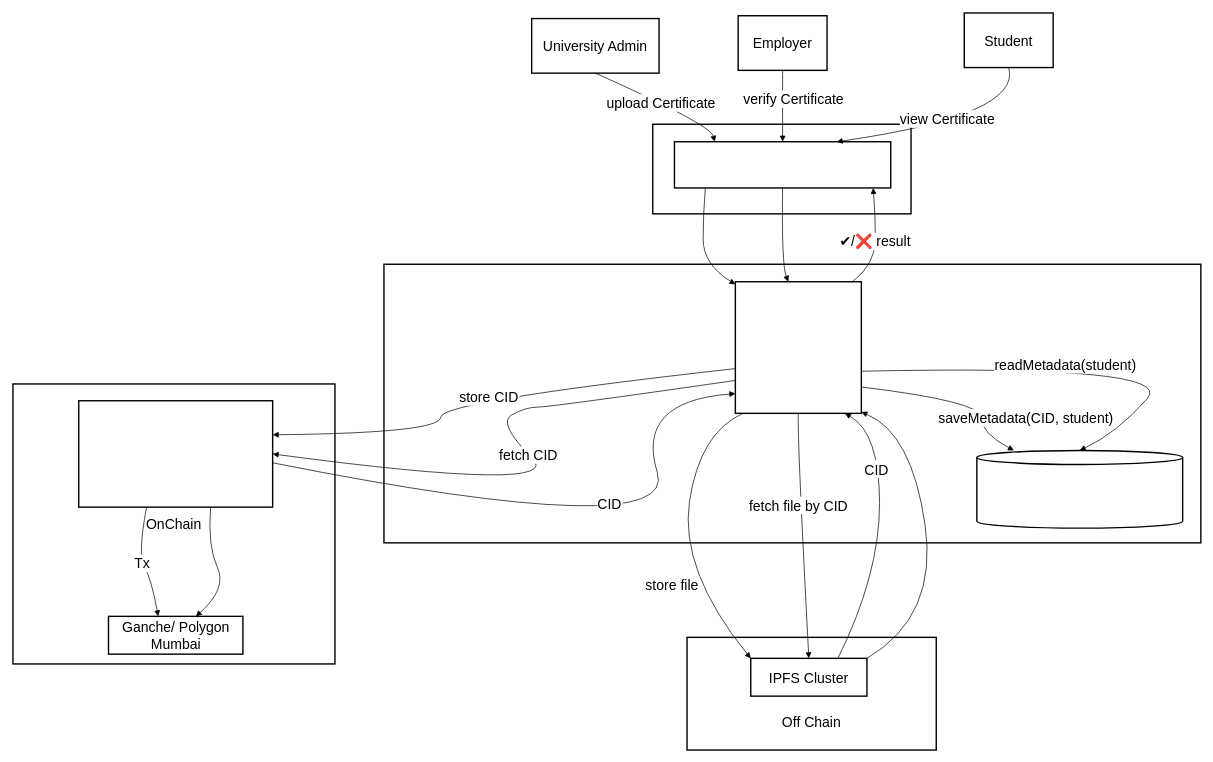
Image size: 1213x762. Some labels were removed from this diagram. Each missing label, with the centre of its shape:
PostgreSQL DB metadata + revocation: the point at 1079,488
React Front-End Role-based UI: the point at 782,164
Solidity Smart Contract Web3j integration storeCID, getCID: the point at 175,453
Spring Boot API to upload Certificate, verify Certificate: the point at 798,347
